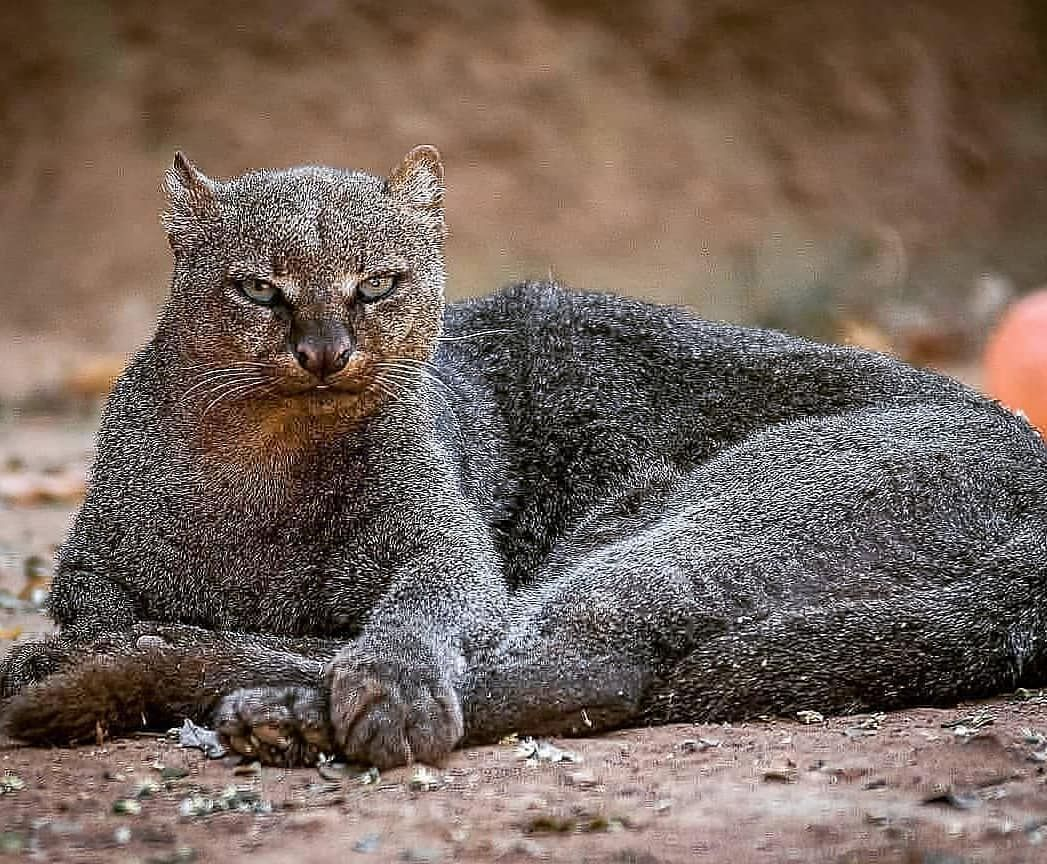Jaguarundi: (30, 144, 1015, 781)
